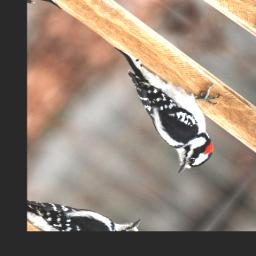Woodpecker: (74, 27, 250, 182)
